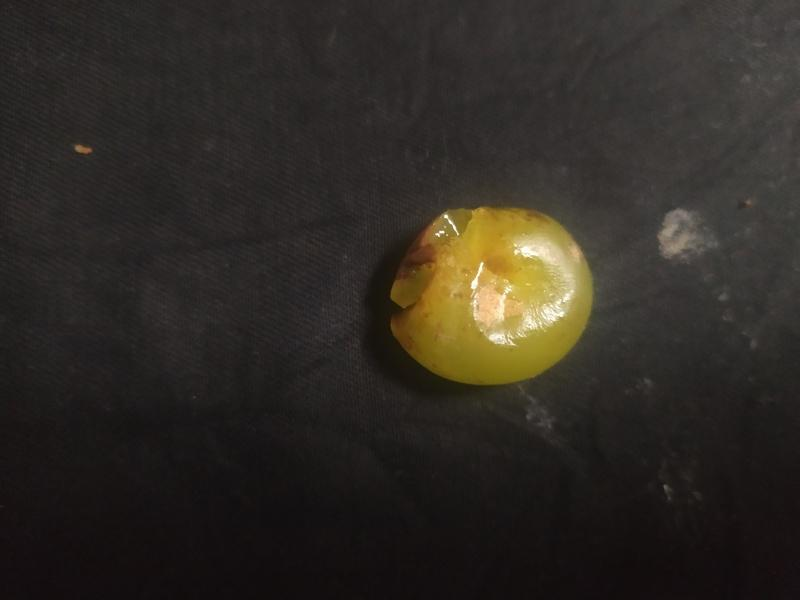Grape Overripe: (388, 203, 598, 388)
